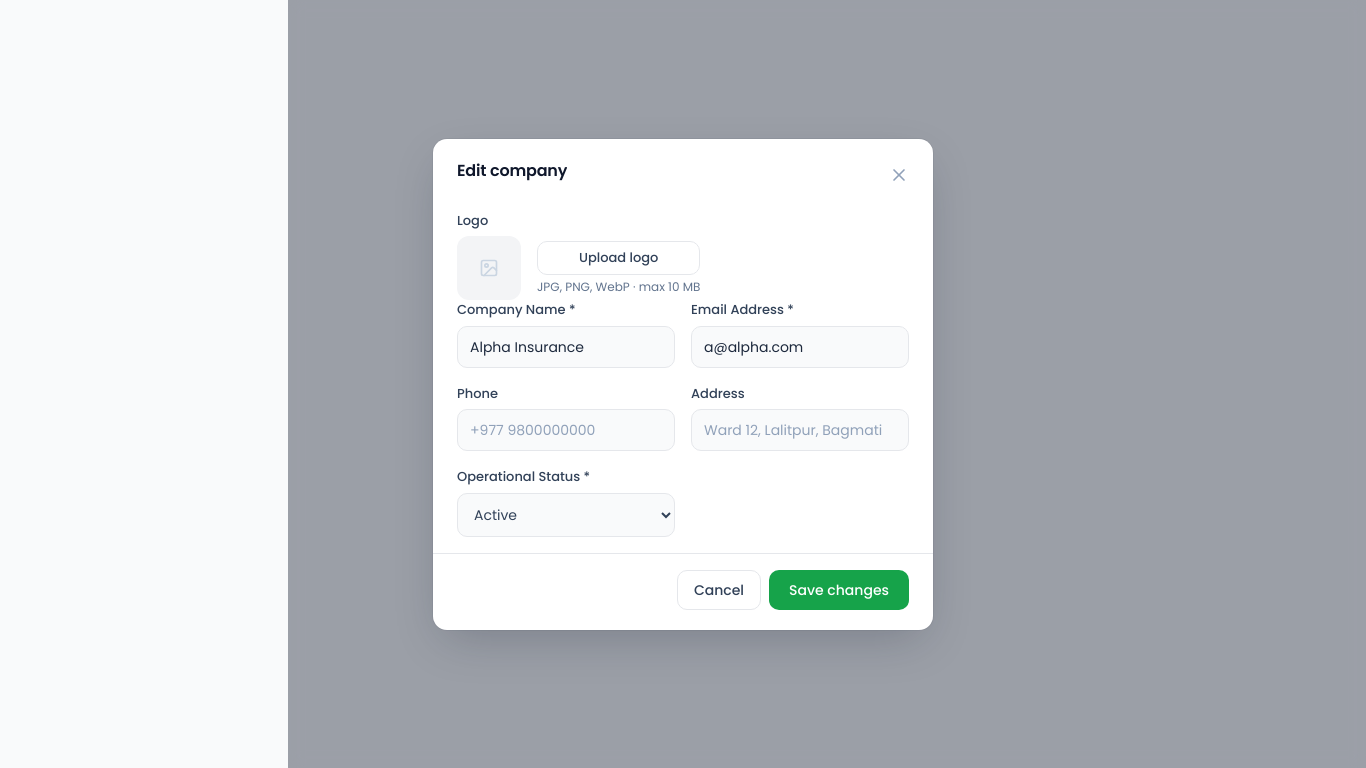
Scenario: CompanyModal › a server field error is shown instead of closing
Click the button "Save changes": (839, 590) x1=769 y1=570 x2=909 y2=610
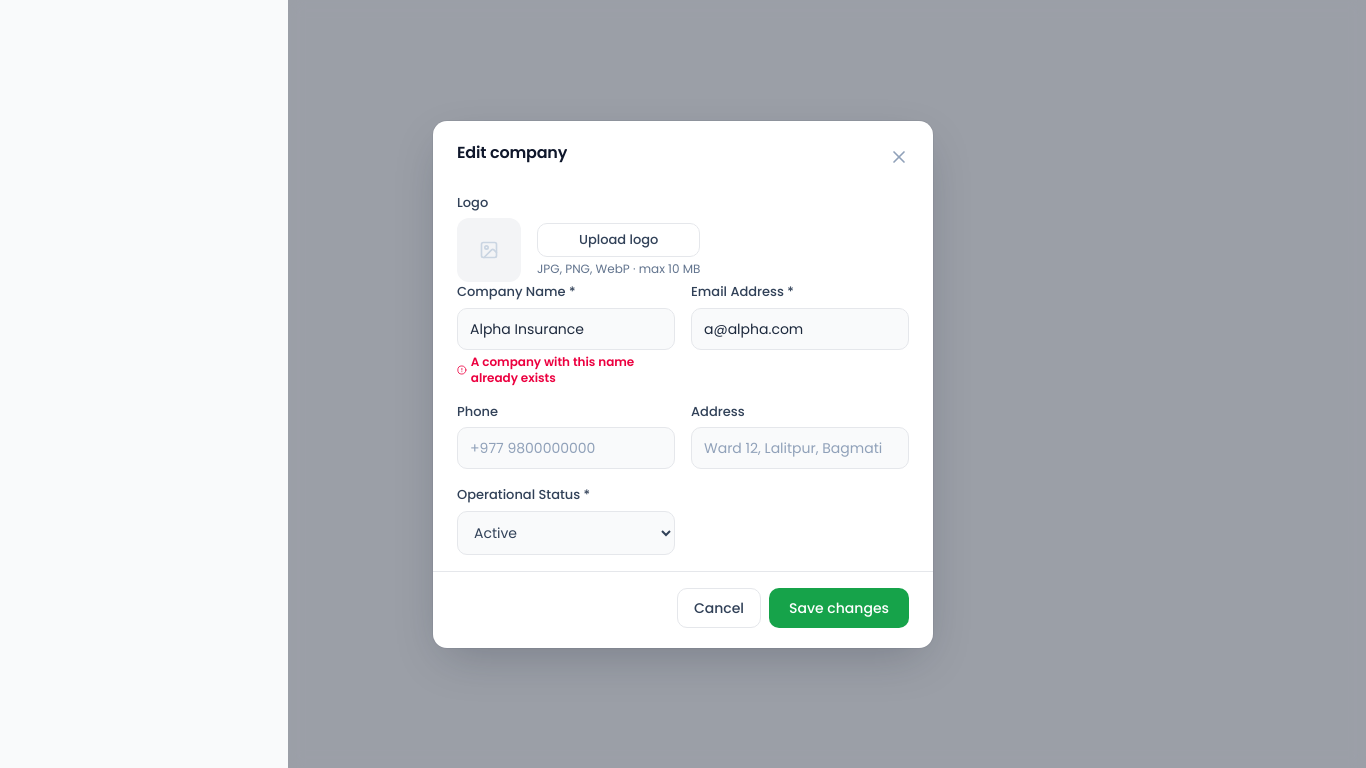
expect the text "A company with this name already exists" is shown: met, box x1=457 y1=352 x2=634 y2=386
